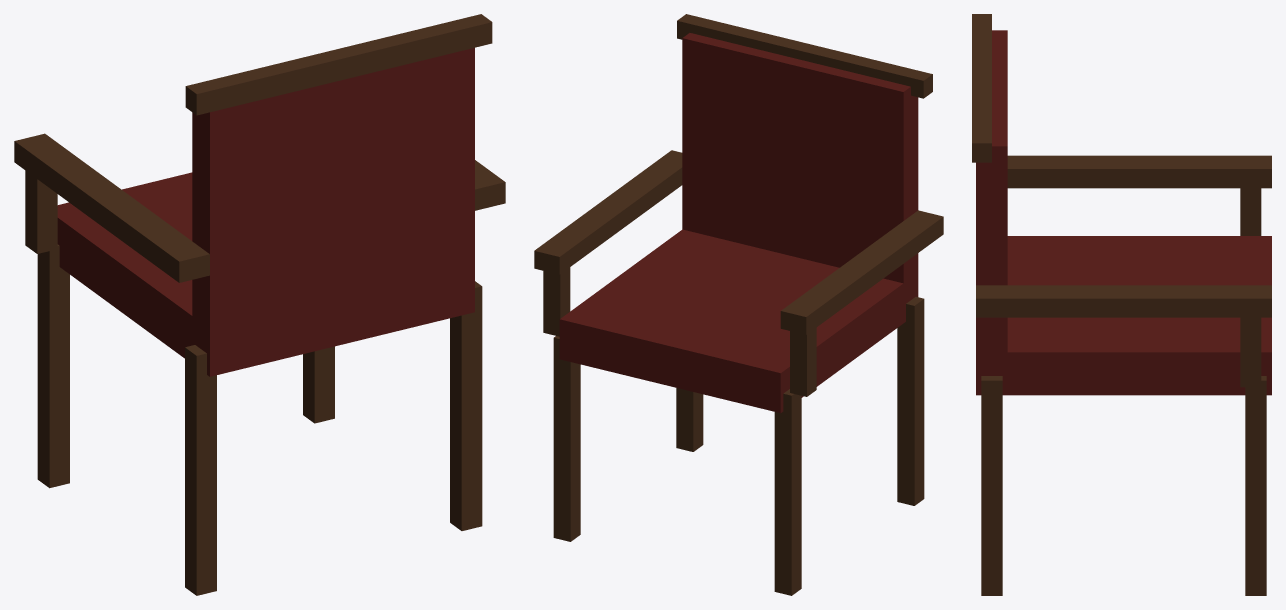
File: SM_80s_GuestChair.glb
3 renders of one model, left to right at view 1: azimuth 30°, elevation 25°; view 2: azimuth 150°, elevation 25°; view 3: azimuth 270°, elevation 25°, orthographic. The views are drawn at different scales.
Visible parts, largest first — view 1: SM_80s_GuestChair; view 2: SM_80s_GuestChair; view 3: SM_80s_GuestChair.
Boxes of the visible parts, <box> form: SM_80s_GuestChair: <box>14,14,505,595</box>; SM_80s_GuestChair: <box>534,14,943,595</box>; SM_80s_GuestChair: <box>972,14,1271,595</box>.
Size of the model in its own units: 0.8448 by 1.25 by 0.7492.
